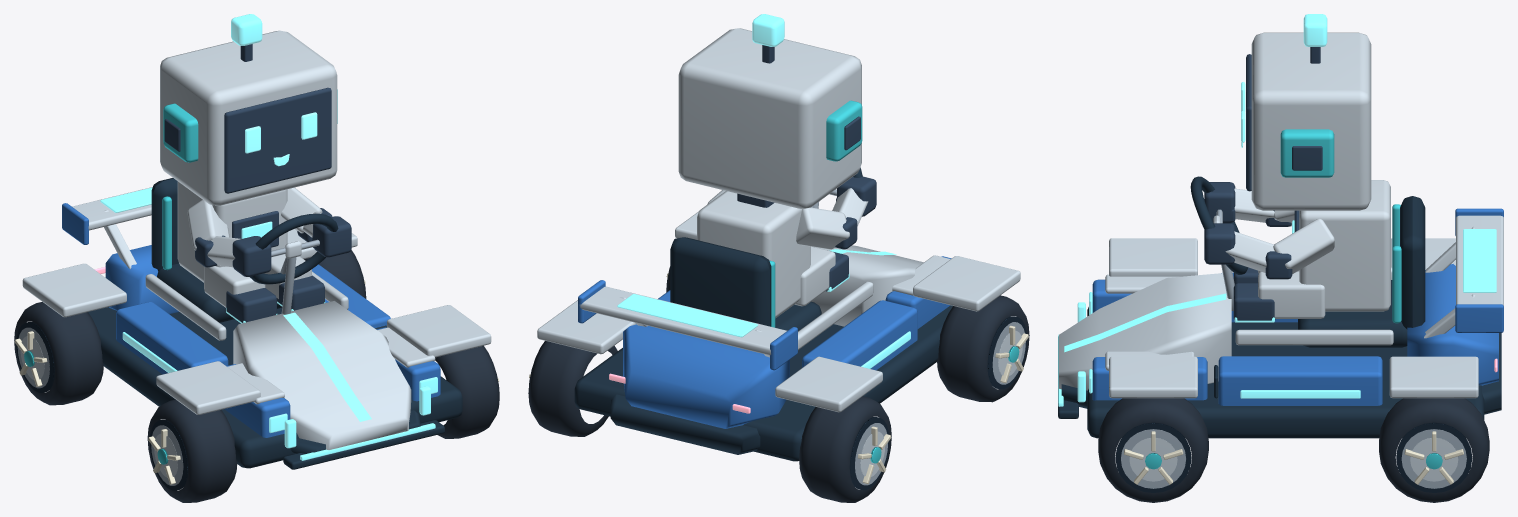
Rendered from kart_robot.glb.
3 renders of one model, left to right at view 1: azimuth 30°, elevation 25°; view 2: azimuth 150°, elevation 25°; view 3: azimuth 270°, elevation 25°, orthographic. The views are drawn at different scales.
Parts seen in each view (by area): view 1: chassis, driver_pose, wheel_rl_spin, wheel_fl_spin, wheel_fr_spin, ear_l, steering, wheel_rr_spin, eyes; view 2: chassis, driver_pose, wheel_rl_spin, wheel_fl_spin, wheel_rr_spin, ear_l; view 3: chassis, driver_pose, wheel_fr_spin, wheel_rr_spin, ear_r, steering, ear_l.
Boxes of the visible parts, bbox=[...] form: chassis: bbox=[22, 178, 491, 469]; driver_pose: bbox=[160, 30, 351, 323]; wheel_rl_spin: bbox=[14, 302, 103, 405]; wheel_fl_spin: bbox=[147, 399, 237, 502]; wheel_fr_spin: bbox=[435, 345, 499, 438]; ear_l: bbox=[163, 14, 262, 162]; steering: bbox=[250, 213, 338, 284]; wheel_rr_spin: bbox=[304, 250, 366, 298]; eyes: bbox=[245, 112, 317, 153]; chassis: bbox=[537, 201, 1020, 461]; driver_pose: bbox=[678, 28, 876, 318]; wheel_rl_spin: bbox=[799, 396, 891, 502]; wheel_fl_spin: bbox=[937, 295, 1029, 402]; wheel_rr_spin: bbox=[528, 341, 617, 436]; ear_l: bbox=[752, 14, 862, 161]; chassis: bbox=[1058, 196, 1503, 438]; driver_pose: bbox=[1204, 32, 1390, 322]; wheel_fr_spin: bbox=[1098, 398, 1208, 502]; wheel_rr_spin: bbox=[1379, 398, 1489, 502]; ear_r: bbox=[1280, 129, 1334, 177]; steering: bbox=[1190, 176, 1248, 274]; ear_l: bbox=[1303, 14, 1327, 63].
Size of what is drawn, in the model's own units: 1.46 by 1.68 by 1.65.
